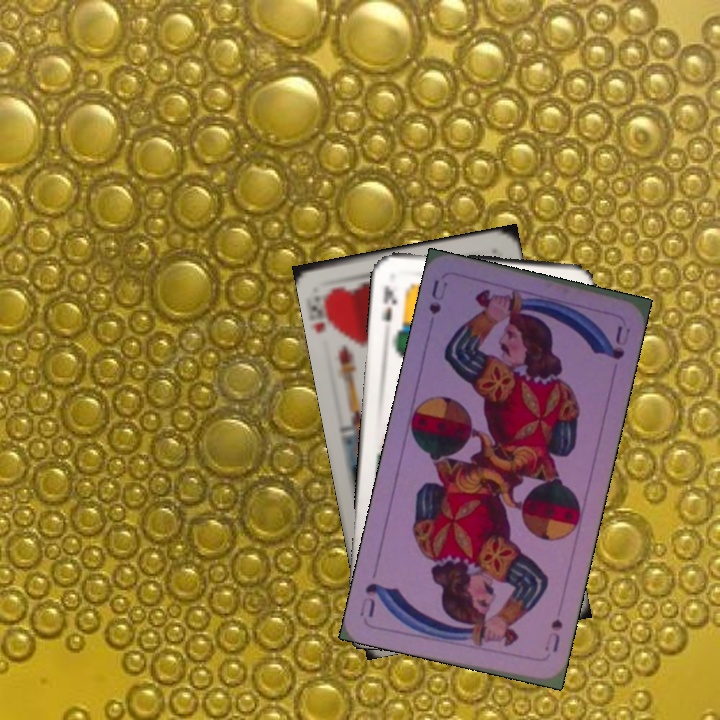EK: (378, 280, 400, 324)
HK: (310, 289, 338, 335)
SU: (424, 275, 450, 317), (540, 614, 566, 655)
